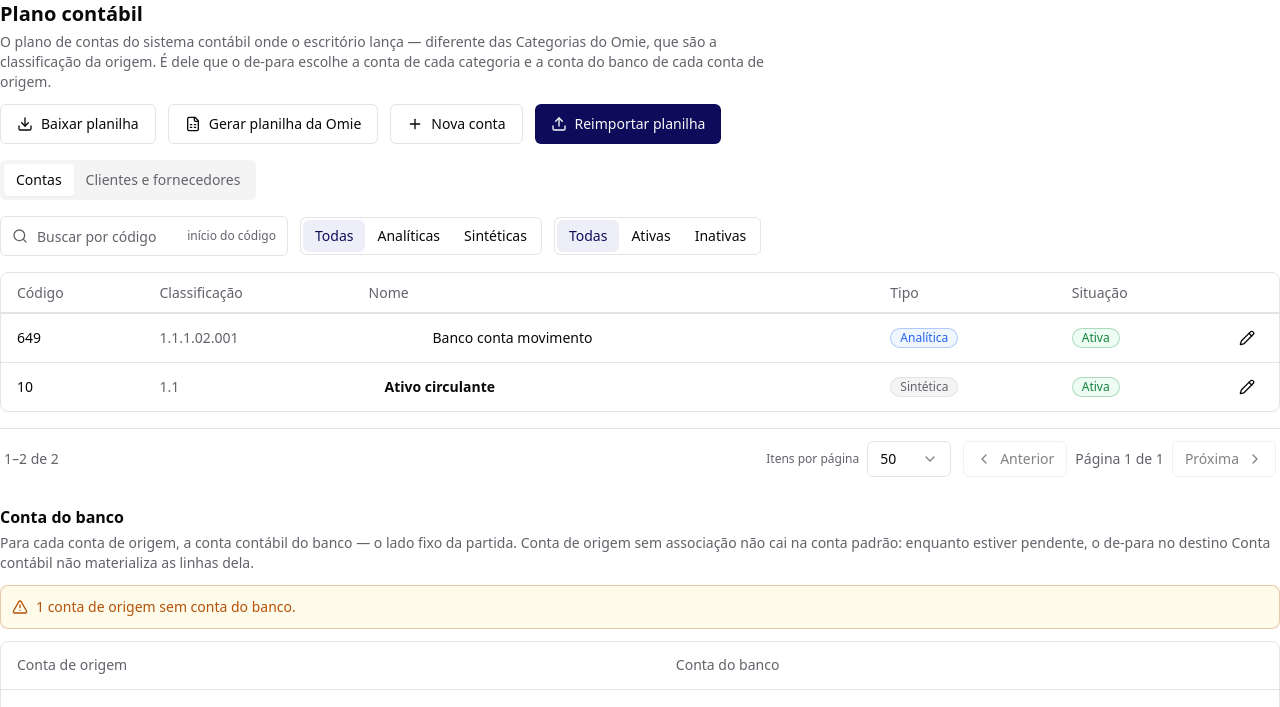
Test: conta manual (86e3nb816) › código repetido (409) aparece NO CAMPO do código, sem toast
Click the button "Nova conta" at [456, 124], box 390,104 -> 522,144
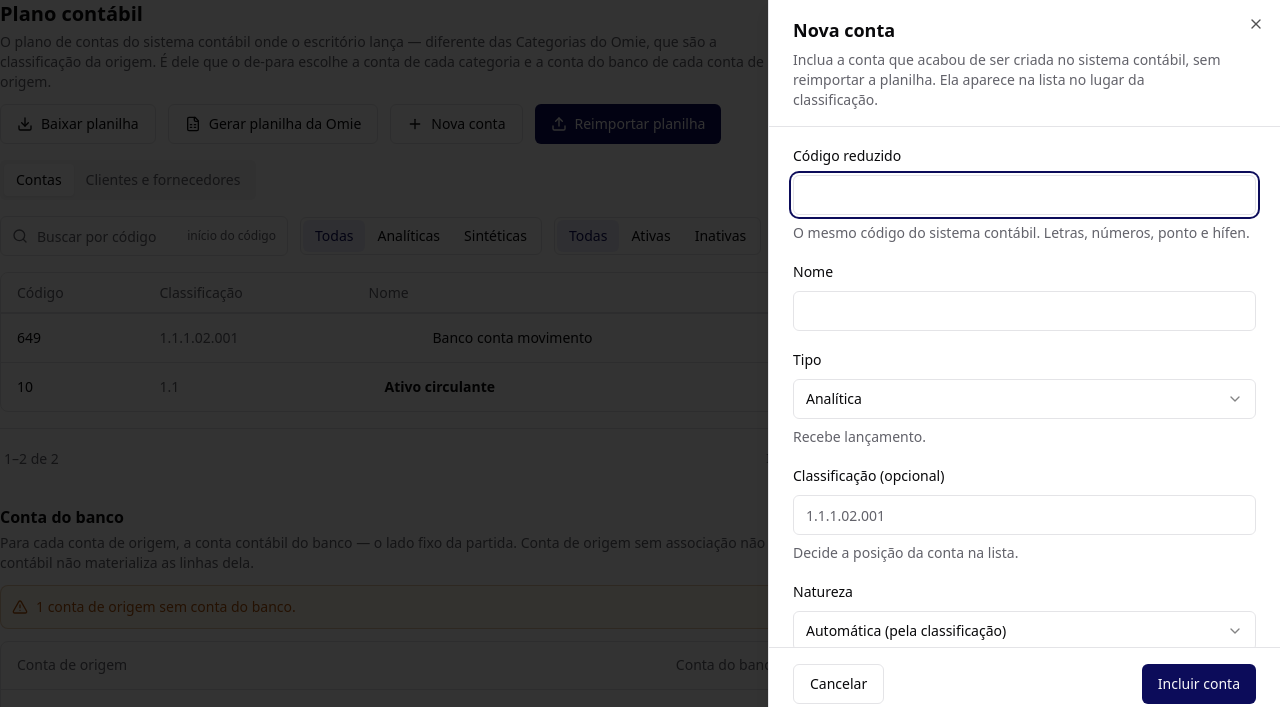
Type "649" into the field labelled "Código reduzido" at [1024, 195], box 793,175 -> 1256,215
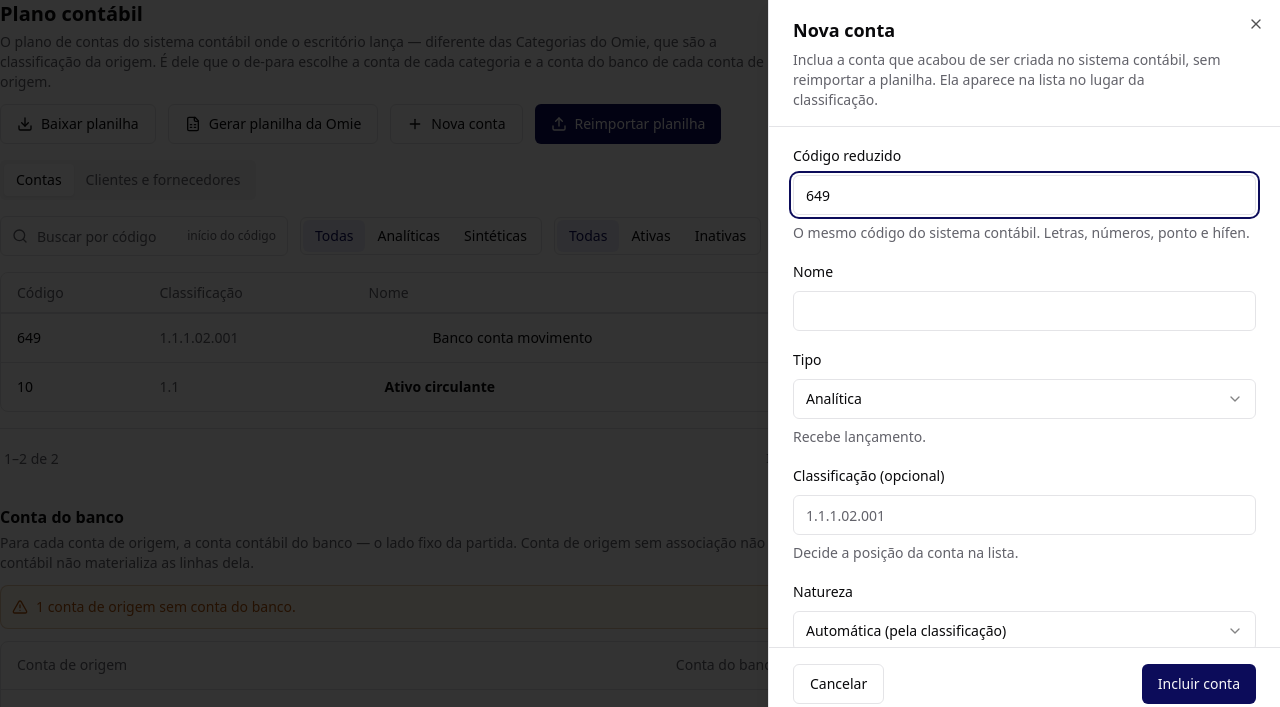
Type "Outra" into the field labelled "Nome" at [1024, 311], box 793,291 -> 1256,331
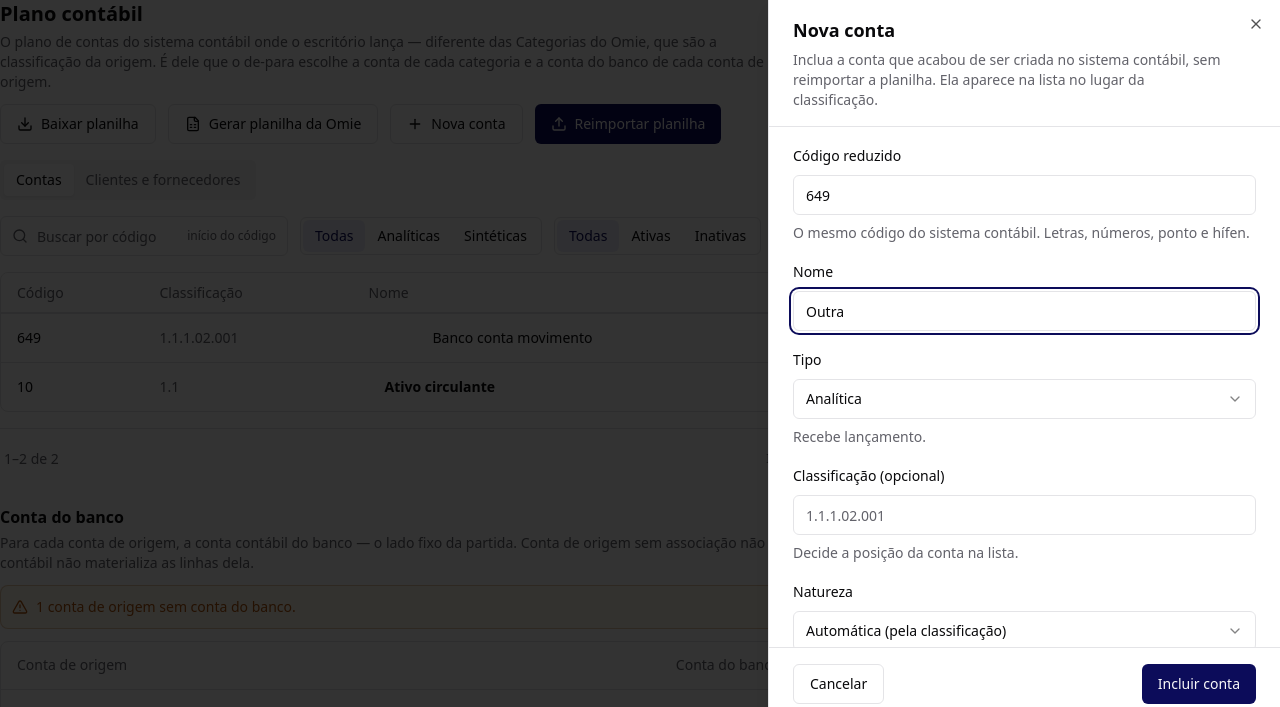
Click the button "Incluir conta" at [1199, 684], box 1142,664 -> 1256,704
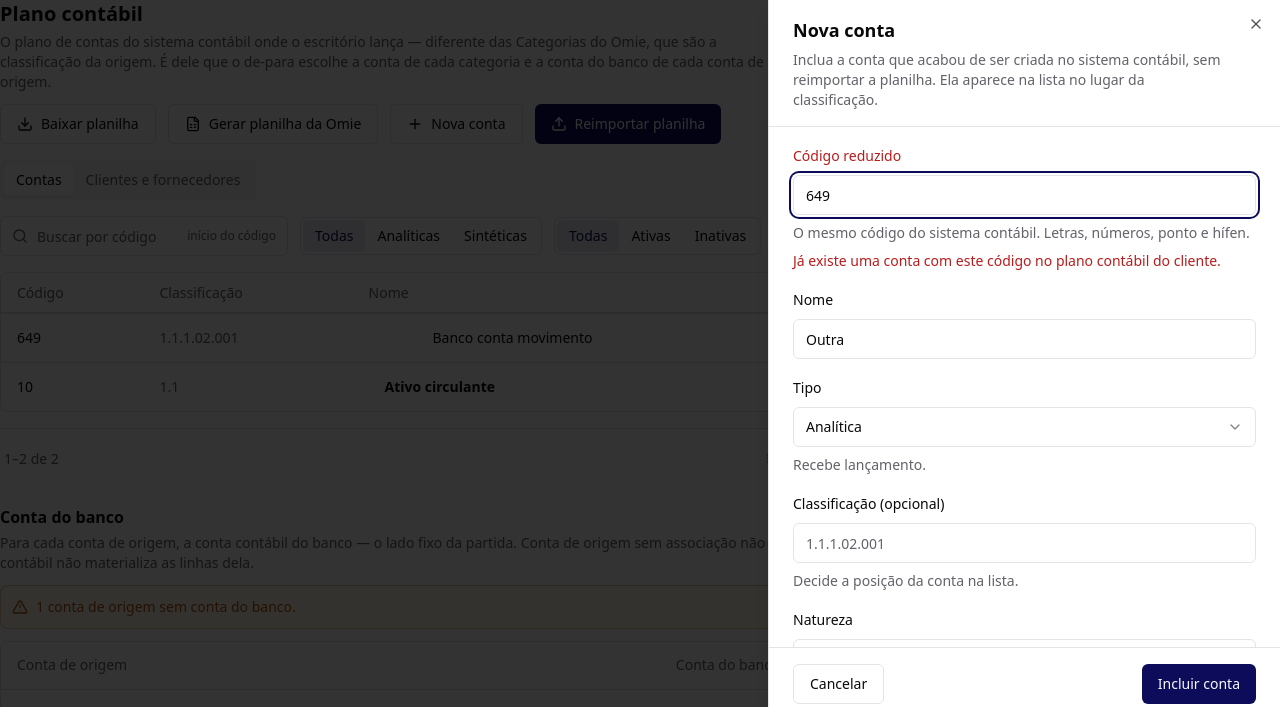
Check: the text "Já existe uma conta com este código" is shown, box 793,251 -> 1221,270
